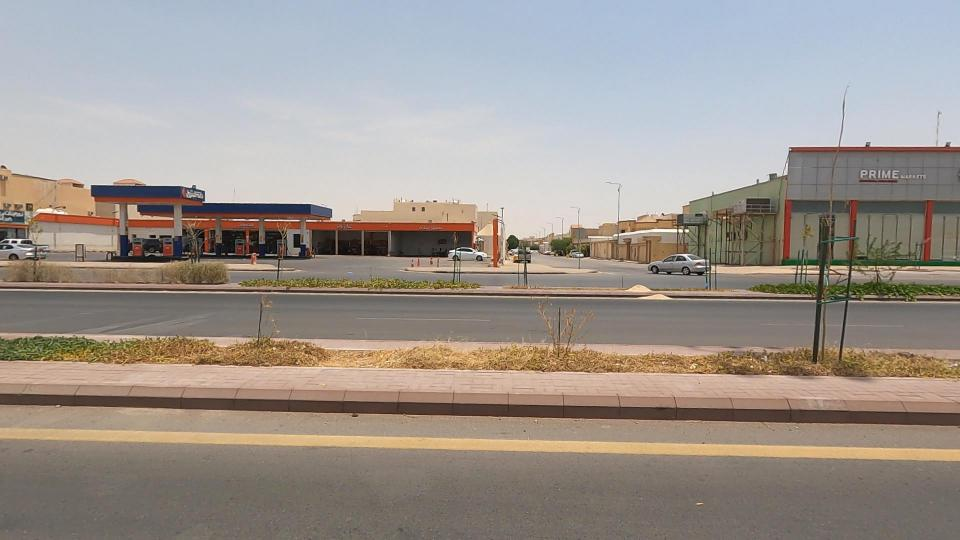SAND_ON_ROAD: (590, 266, 695, 322)
